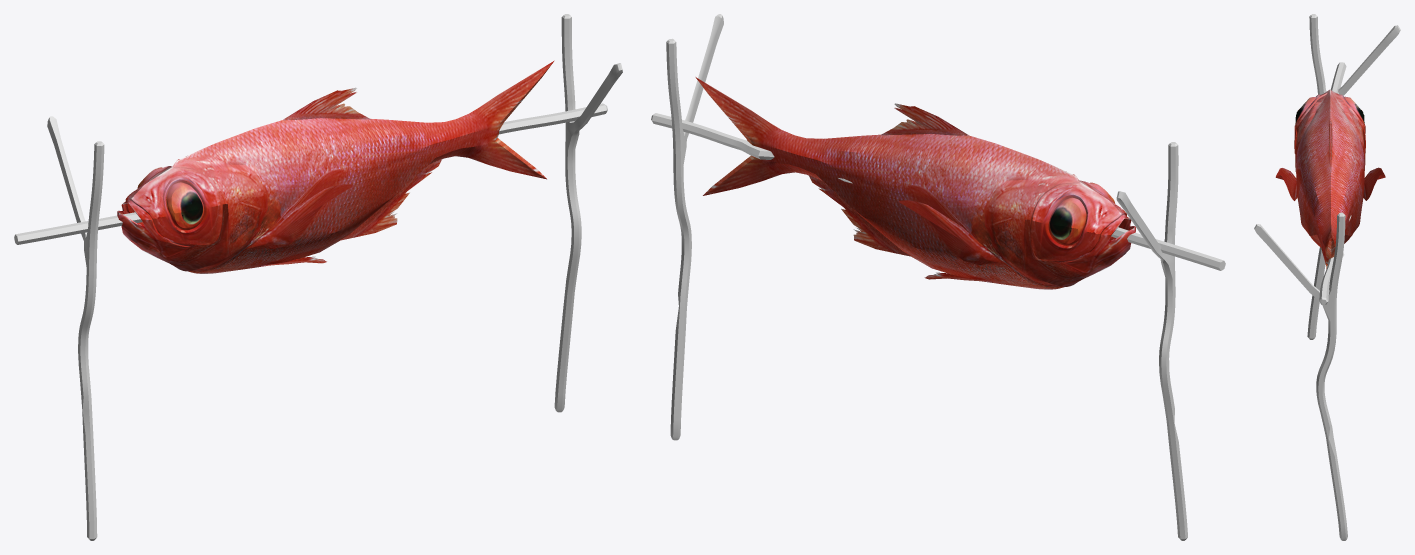
File: Stick-RawFish.fbx
3 views of the same model, side by side, from view 1: azimuth 30°, elevation 25°; view 2: azimuth 150°, elevation 25°; view 3: azimuth 270°, elevation 25° (orthographic). The views are drawn at different scales.
Parts seen in each view (by area): view 1: Raw-Fish, Raw-Fish.Stick; view 2: Raw-Fish, Raw-Fish.Stick; view 3: Raw-Fish, Raw-Fish.Stick.
Boxes of the visible parts, x1,y1,x2,y2 form: Raw-Fish: (117,60,554,273); Raw-Fish.Stick: (14,14,622,540); Raw-Fish: (695,77,1135,289); Raw-Fish.Stick: (651,14,1225,540); Raw-Fish: (1275,89,1385,268); Raw-Fish.Stick: (1254,14,1400,540).
Bounding box in the file's own units: 1437 × 944 × 380.
